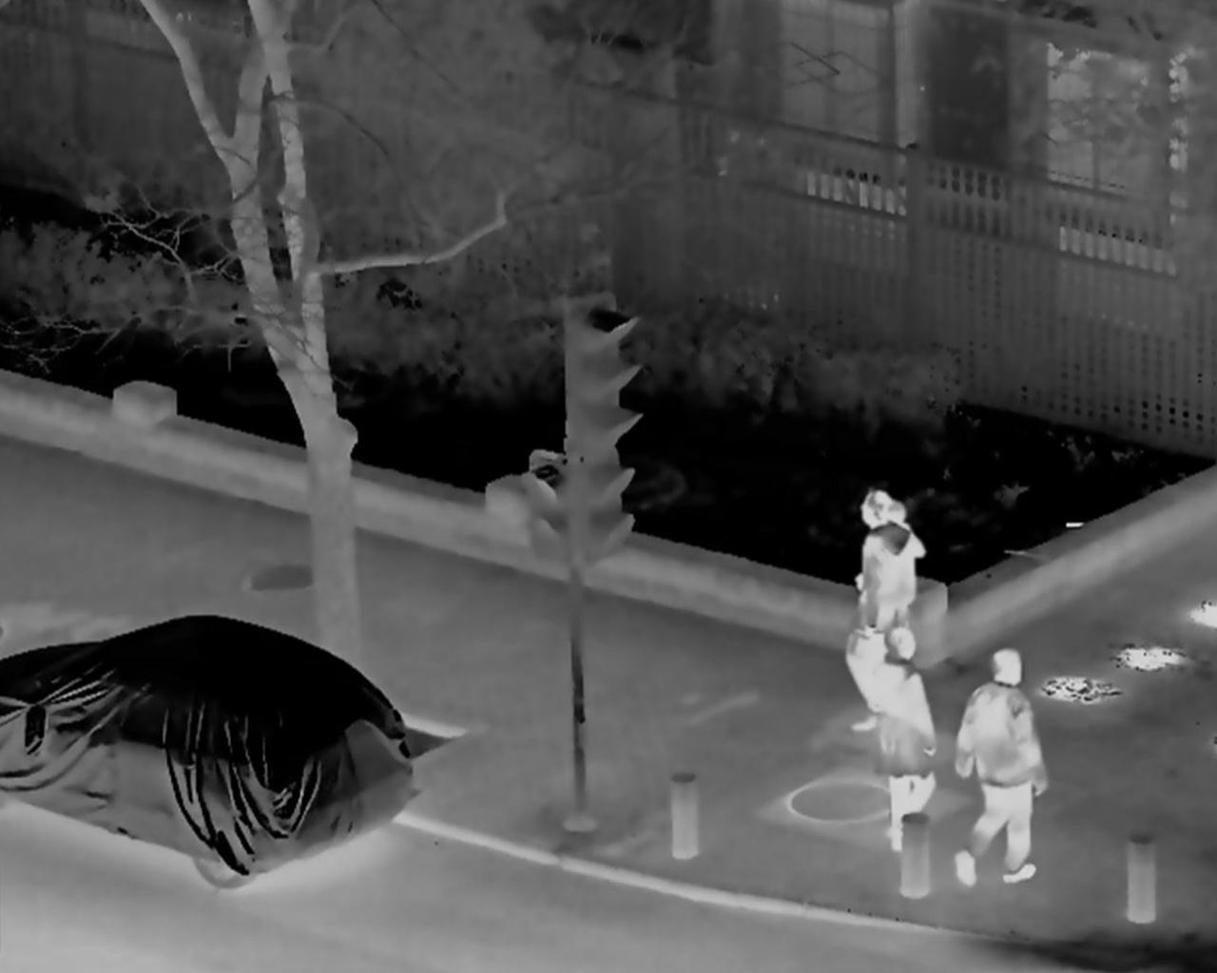person: (954, 646, 1050, 891), (843, 491, 919, 729), (872, 629, 936, 865)
